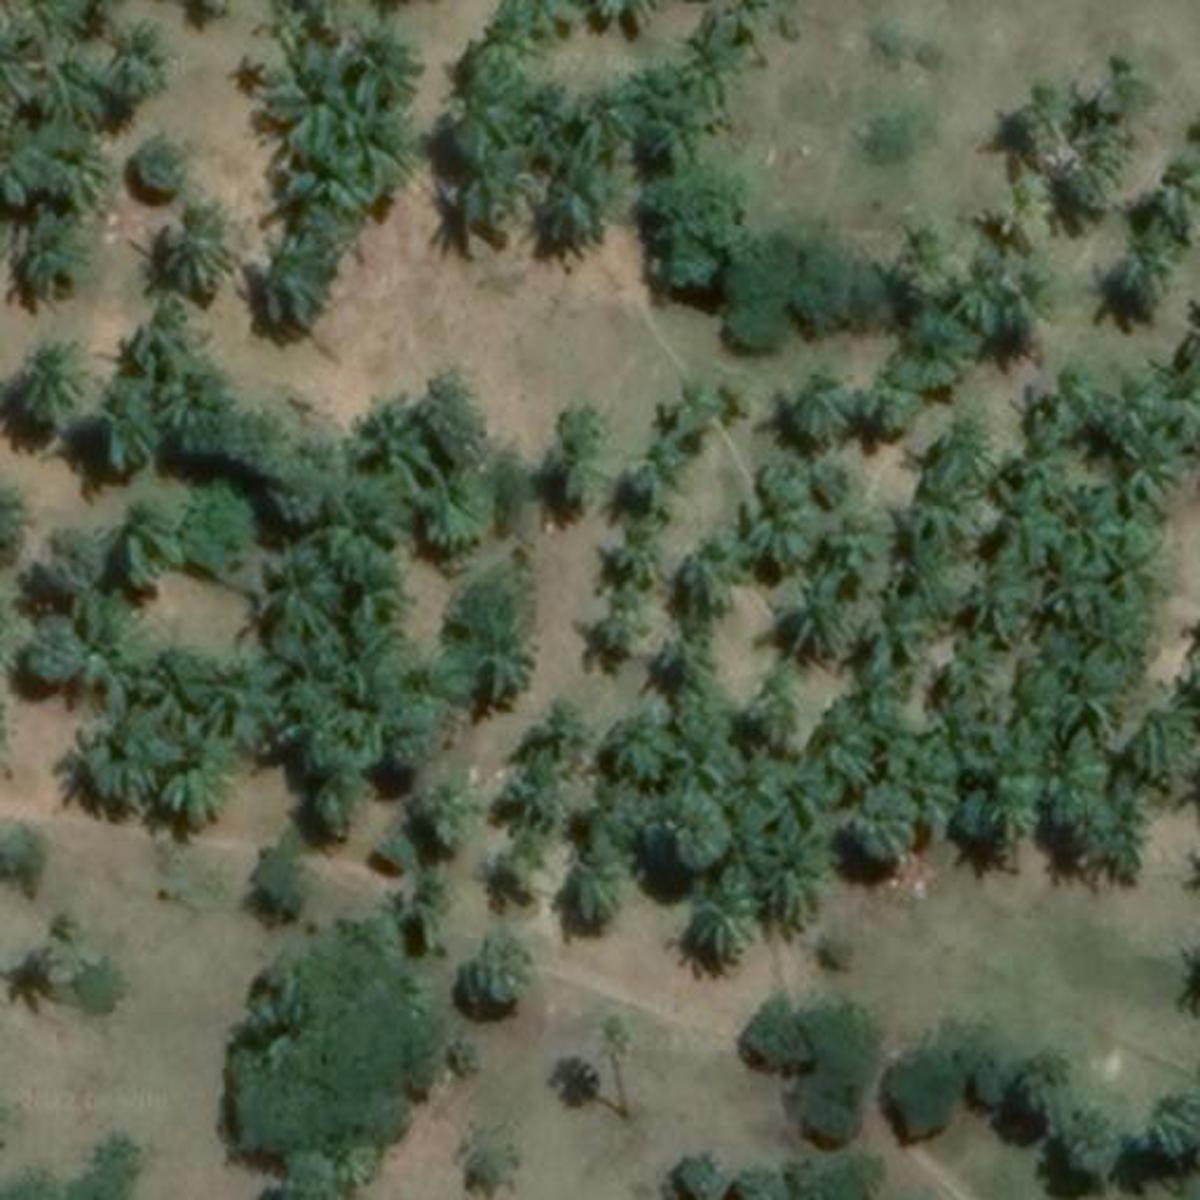coconut: (75, 588, 173, 707), (742, 820, 834, 935), (7, 42, 114, 135), (780, 555, 871, 660), (241, 229, 330, 335), (712, 733, 805, 834), (895, 496, 993, 588), (253, 543, 344, 642), (447, 140, 543, 232), (159, 716, 238, 827), (1108, 405, 1197, 503), (462, 600, 543, 703), (9, 335, 89, 440), (260, 140, 370, 215), (70, 716, 159, 810), (4, 199, 91, 295), (356, 393, 454, 478), (337, 30, 433, 114), (829, 782, 921, 869), (21, 121, 110, 208), (100, 499, 187, 588), (745, 478, 820, 578), (260, 58, 344, 147), (944, 264, 1035, 344), (543, 157, 627, 241), (1116, 689, 1190, 785), (414, 462, 489, 555), (810, 700, 902, 775), (646, 82, 727, 166), (321, 487, 400, 571), (557, 848, 642, 927), (205, 656, 292, 733), (147, 216, 236, 288), (127, 309, 210, 386), (684, 871, 752, 963), (91, 25, 180, 93), (1057, 646, 1125, 735), (677, 529, 747, 614), (921, 414, 1003, 485), (787, 367, 855, 452), (956, 569, 1038, 638), (98, 386, 166, 468), (862, 592, 944, 658), (989, 478, 1059, 555), (1066, 489, 1129, 569), (574, 82, 644, 154), (604, 712, 682, 775), (67, 953, 135, 1021), (581, 602, 653, 665), (1127, 213, 1185, 284), (611, 525, 670, 588), (677, 377, 735, 435)
